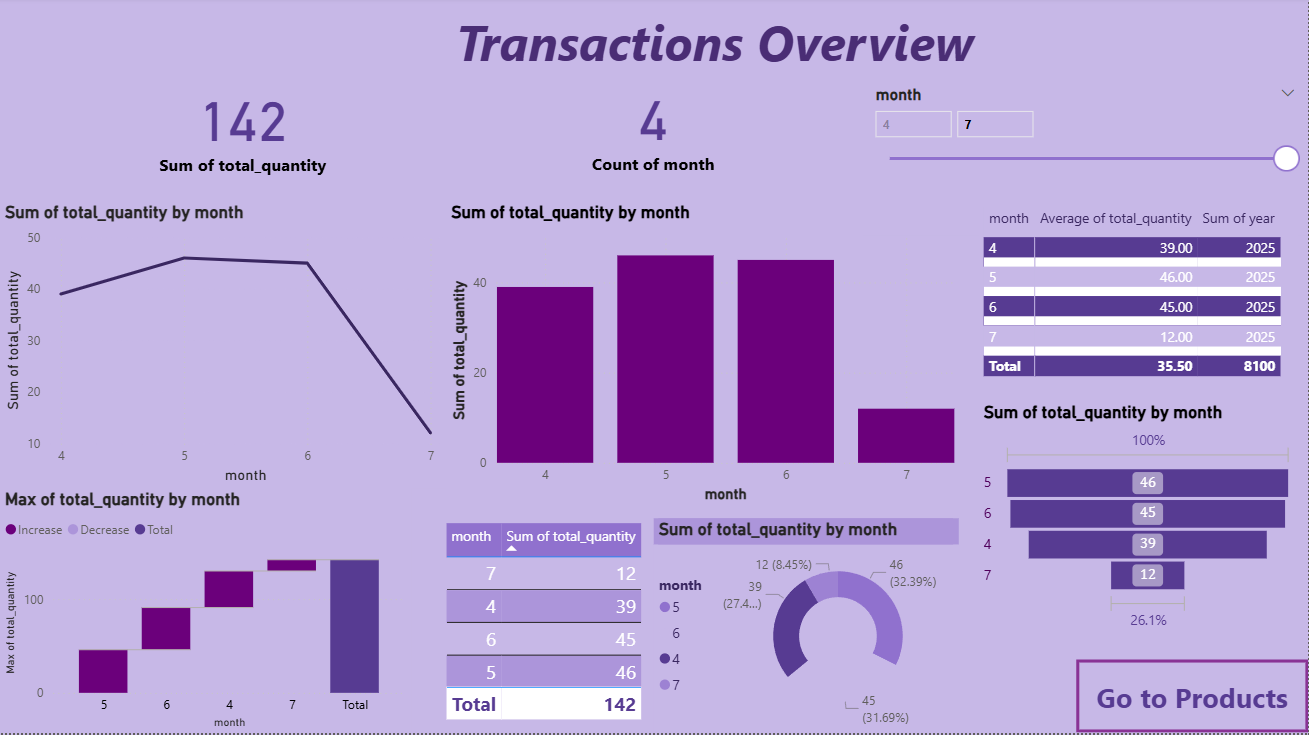

What the dashboard file says about the page in this screenshot:
{"tool":"powerbi","page":{"name":"Page 1","canvas":[1280,720],"ordinal":0},"visuals":[{"type":"lineChart","fields":{"Category":["gold_transactions.month"],"Y":["Sum(gold_transactions.total_quantity)"]},"box":[0,200.3,436.4,279.9],"z":0},{"type":"columnChart","fields":{"Y":["Sum(gold_transactions.total_quantity)"],"Category":["gold_transactions.month"]},"box":[436.4,200.3,502.2,299.1],"z":1000},{"type":"card","fields":{"Values":["Sum(gold_transactions.total_quantity)"]},"box":[19.2,54.9,436.4,141.3],"z":2000},{"type":"card","fields":{"Values":["CountNonNull(gold_transactions.month)"]},"box":[455.6,59,366.4,131.7],"z":3000},{"type":"slicer","fields":{"Values":["gold_transactions.month"]},"box":[844.3,81.4,435.7,151.4],"z":4000},{"type":"textbox","box":[382.9,5.7,620,75.7],"z":5000},{"type":"tableEx","fields":{"Values":["gold_transactions.month","Sum(gold_transactions.total_quantity)"]},"box":[430.9,510.5,208.6,209.9],"z":6000},{"type":"actionButton","box":[1052.9,648.6,227.1,71.4],"z":7000},{"type":"waterfallChart","fields":{"Category":["gold_transactions.month"],"Y":["Max(gold_transactions.total_quantity)"]},"box":[0,480.3,402.1,240.1],"z":8000},{"type":"pivotTable","fields":{"Rows":["gold_transactions.month"],"Values":["Avg(gold_transactions.total_quantity)","Sum(gold_transactions.year)"]},"box":[957.1,200,312.9,204.3],"z":9000},{"type":"funnel","fields":{"Category":["gold_transactions.month"],"Y":["Sum(gold_transactions.total_quantity)"]},"box":[957.1,395.7,312.9,228.6],"z":10000},{"type":"donutChart","fields":{"Y":["Sum(gold_transactions.total_quantity)"],"Category":["gold_transactions.month"]},"box":[640,510,298,210],"z":11000}]}

Visuals, with their boxes in screenshot pixels (x1, y1, x2, y2), scaled from the page's 1280x720 canvas onto the 1309x735 screenshot:
lineChart - gold_transactions.month x Sum(gold_transactions.total_quantity): (0, 204, 446, 490)
columnChart - Sum(gold_transactions.total_quantity) x gold_transactions.month: (446, 204, 960, 510)
card - Sum(gold_transactions.total_quantity): (20, 56, 466, 200)
card - CountNonNull(gold_transactions.month): (466, 60, 841, 195)
slicer - gold_transactions.month: (863, 83, 1308, 238)
textbox: (392, 6, 1026, 83)
tableEx - gold_transactions.month x Sum(gold_transactions.total_quantity): (441, 521, 654, 734)
actionButton: (1077, 662, 1308, 734)
waterfallChart - gold_transactions.month x Max(gold_transactions.total_quantity): (0, 490, 411, 734)
pivotTable - gold_transactions.month x Avg(gold_transactions.total_quantity): (979, 204, 1299, 413)
funnel - gold_transactions.month x Sum(gold_transactions.total_quantity): (979, 404, 1299, 637)
donutChart - Sum(gold_transactions.total_quantity) x gold_transactions.month: (654, 521, 959, 734)
